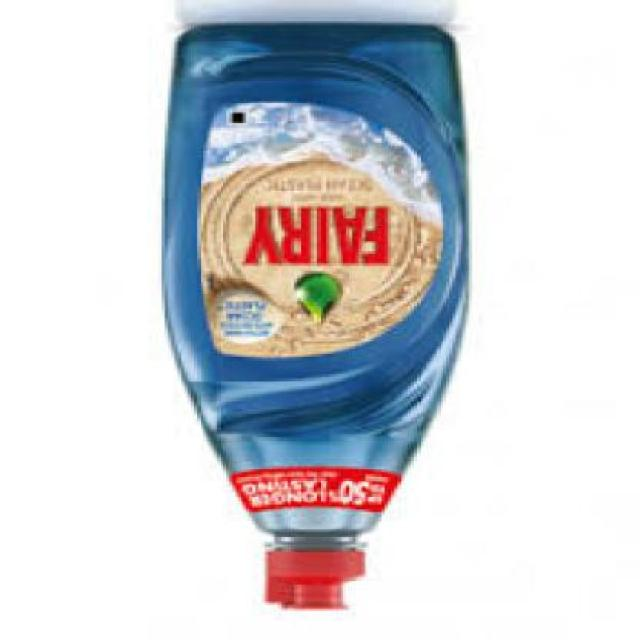PLASTIC: (162, 28, 476, 612), (266, 550, 368, 615)
